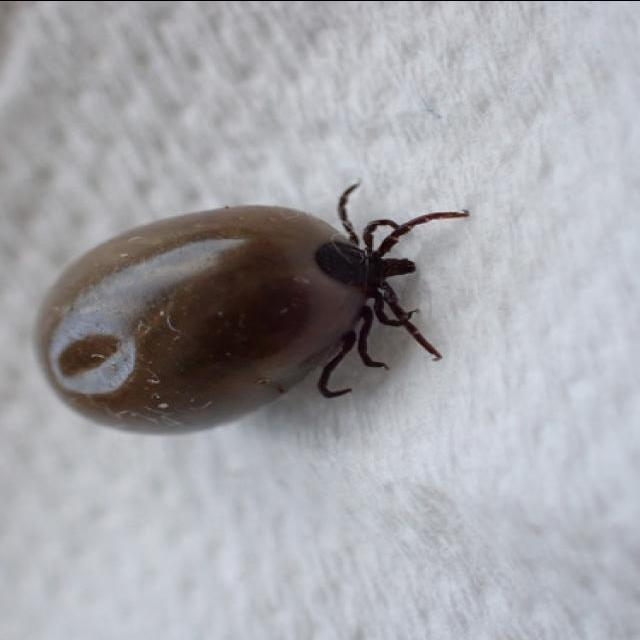Ixodes Ricinus-F-Fed: (32, 183, 471, 436)
